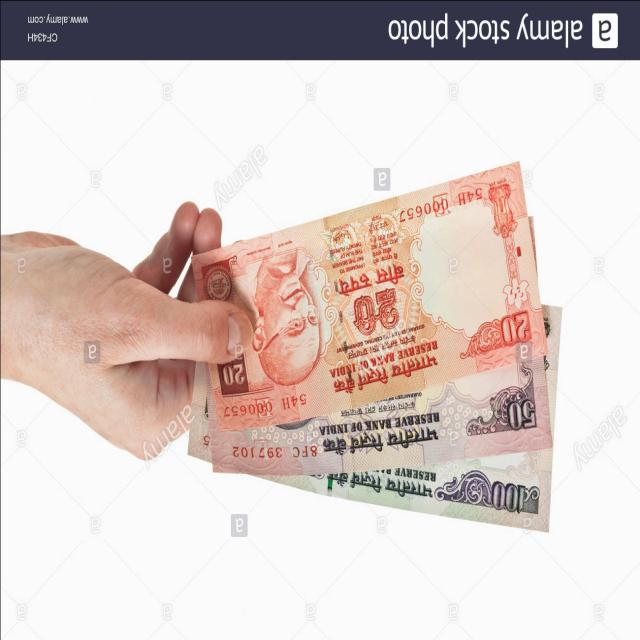20IndianRupees: (190, 160, 546, 401)
